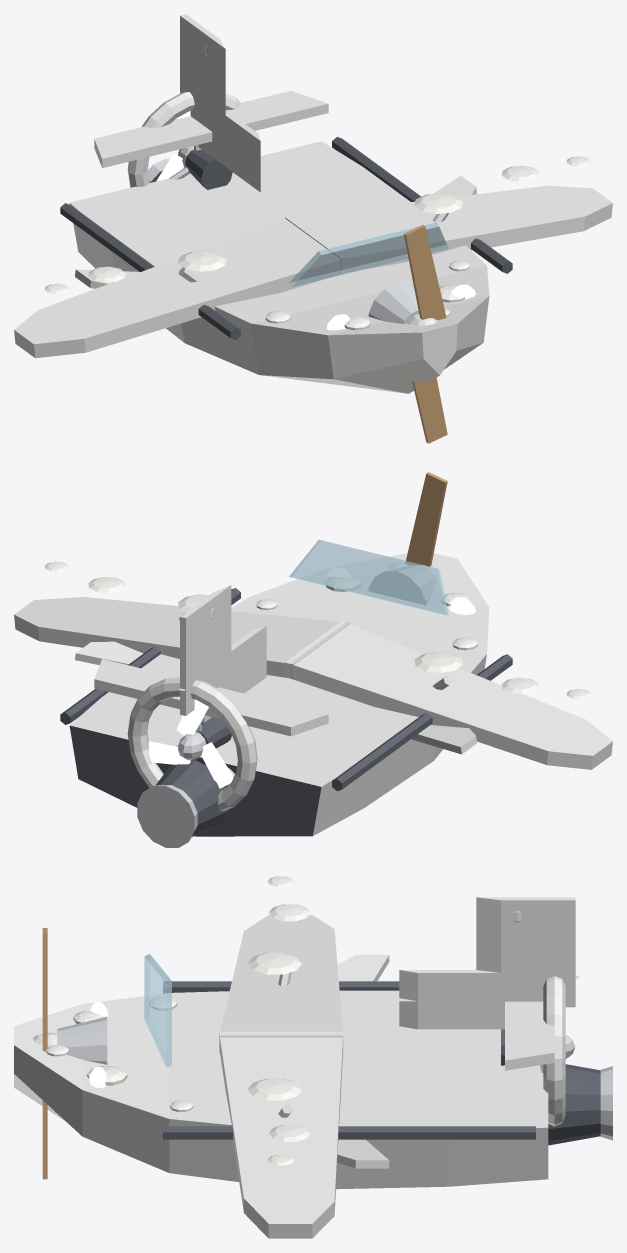
Rendered from transform.glb.
3 renders of one model, top to bottom at view 1: azimuth 30°, elevation 25°; view 2: azimuth 150°, elevation 25°; view 3: azimuth 270°, elevation 25°, orthographic. The views are drawn at different scales.
Visible parts, largest first — view 1: TF_Boat, TF_Plane, TF_Dive, TF_PlaneProp, TF_DiveProp; view 2: TF_Boat, TF_Plane, TF_Dive, TF_DiveProp, TF_PlaneProp; view 3: TF_Boat, TF_Plane, TF_Dive, TF_PlaneProp.
Boxes of the visible parts, bbox=[...] form: TF_Boat: bbox=[60, 137, 512, 393]; TF_Plane: bbox=[14, 14, 612, 358]; TF_Dive: bbox=[75, 92, 476, 330]; TF_PlaneProp: bbox=[404, 225, 447, 443]; TF_DiveProp: bbox=[156, 111, 193, 181]; TF_Boat: bbox=[60, 540, 512, 847]; TF_Plane: bbox=[14, 561, 612, 769]; TF_Dive: bbox=[75, 568, 476, 810]; TF_DiveProp: bbox=[148, 699, 233, 788]; TF_PlaneProp: bbox=[405, 472, 447, 575]; TF_Boat: bbox=[14, 954, 612, 1189]; TF_Plane: bbox=[57, 876, 579, 1238]; TF_Dive: bbox=[89, 954, 565, 1168]; TF_PlaneProp: bbox=[33, 928, 57, 1179].
Size of the model in its own units: 5.88 by 2.43 by 4.82.
